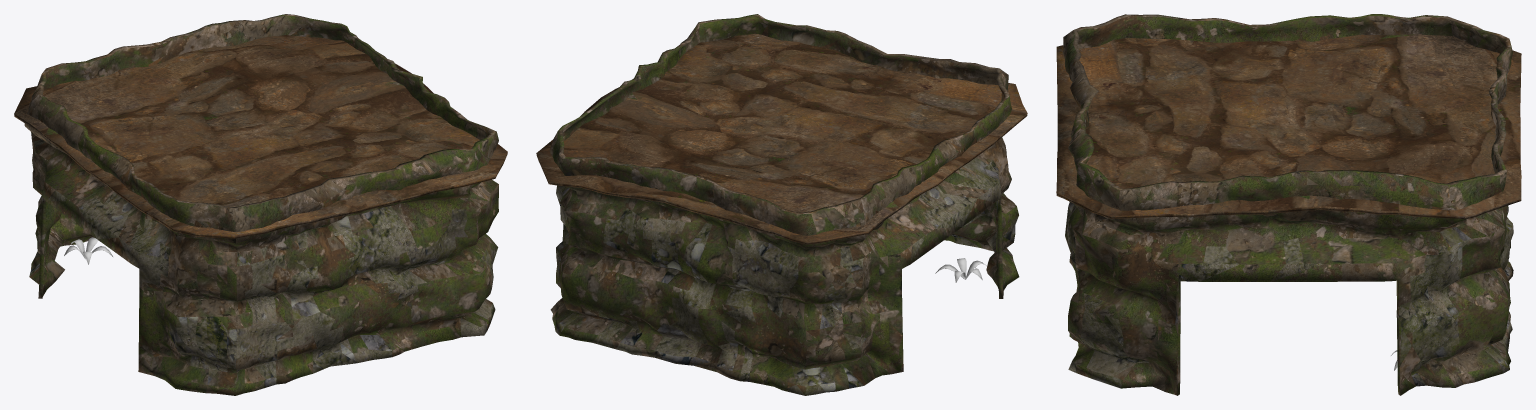
Rendered from cavern_4_organic.obj.
The picture shows the model from 3 angles, left to right: view 1: azimuth 30°, elevation 25°; view 2: azimuth 150°, elevation 25°; view 3: azimuth 270°, elevation 25°; orthographic projection. The views are drawn at different scales.
Parts seen in each view (by area): view 1: cavern_4_Rock_skin, cavern_4_Soft_details; view 2: cavern_4_Rock_skin, cavern_4_Soft_details; view 3: cavern_4_Rock_skin.
Part boxes in pixels (x1=…): cavern_4_Rock_skin: x1=14, y1=14, x2=507, y2=395; cavern_4_Soft_details: x1=64, y1=237, x2=439, y2=329; cavern_4_Rock_skin: x1=536, y1=14, x2=1027, y2=395; cavern_4_Soft_details: x1=935, y1=258, x2=986, y2=282; cavern_4_Rock_skin: x1=1056, y1=14, x2=1521, y2=395.
Size of the model in its own units: 790 by 409 by 829.
